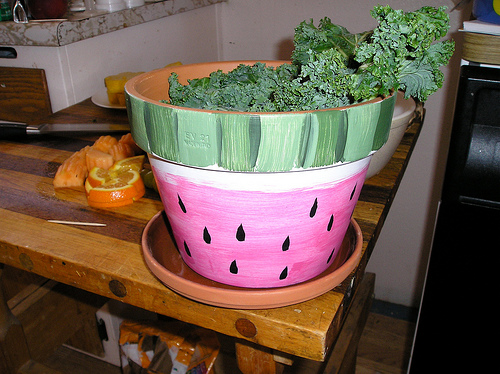tire: (123, 57, 396, 301)
